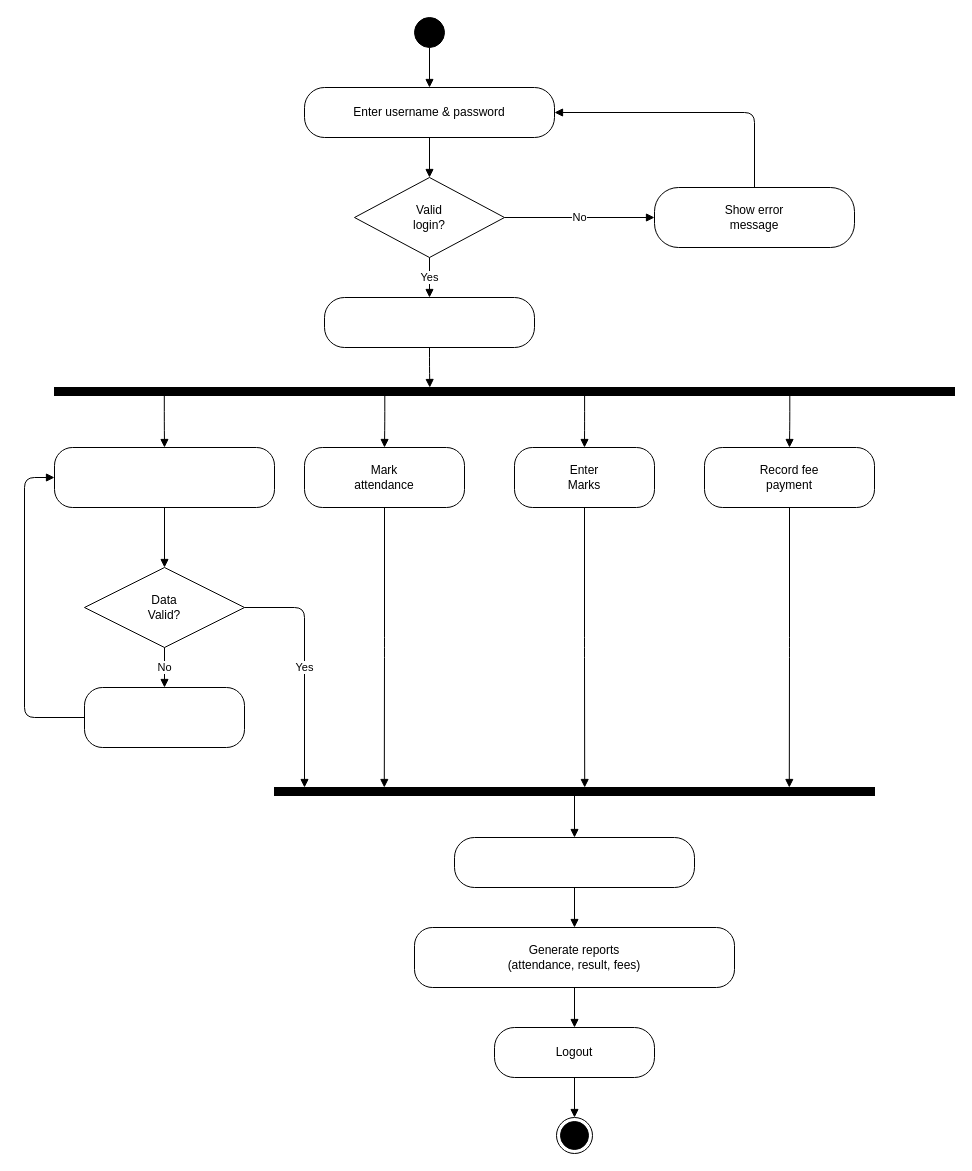
Image size: 972x1171. Some labels were removed from this diagram. The centre of each missing label's shape, as x and y in pixels:
Add / Update Student details: point (164, 477)
Save changes: point (574, 862)
Show Dashboard: point (429, 322)
Show error: point (164, 717)
